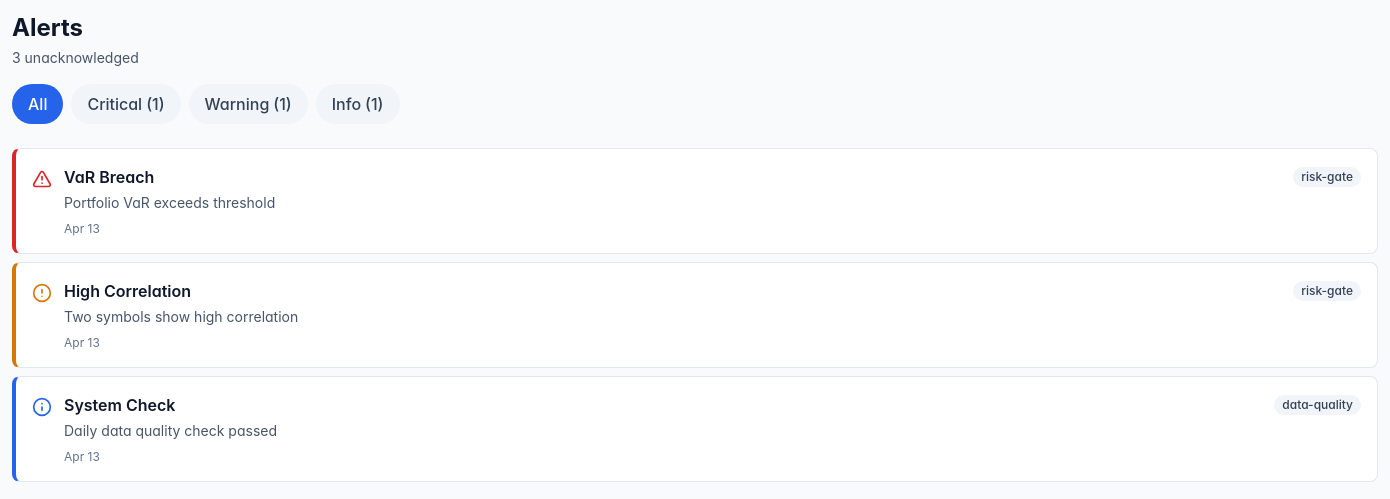
Test: AlertsPage › filter chips › filters alerts by critical severity
This screenshot has width=1390, height=499.
Note: Wait for alerts to render
Click the button "critical(1)".
click(126, 104)  # box [71,84,181,124]
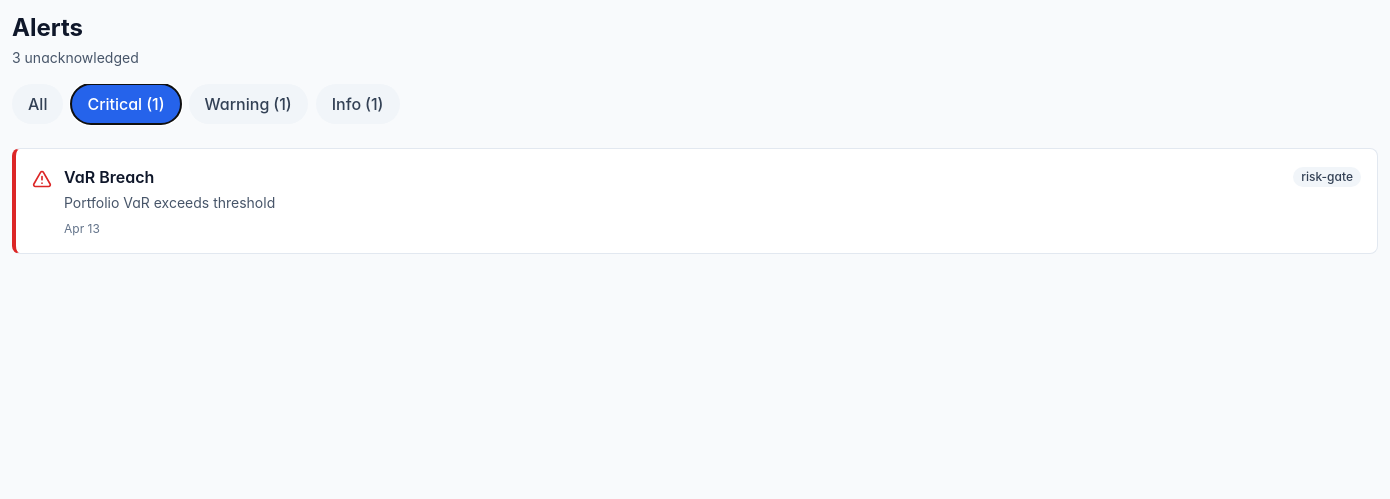
Check: the heading "VaR Breach" is shown, box [64,165,154,189]
Check: the button "High Correlation" is gone
